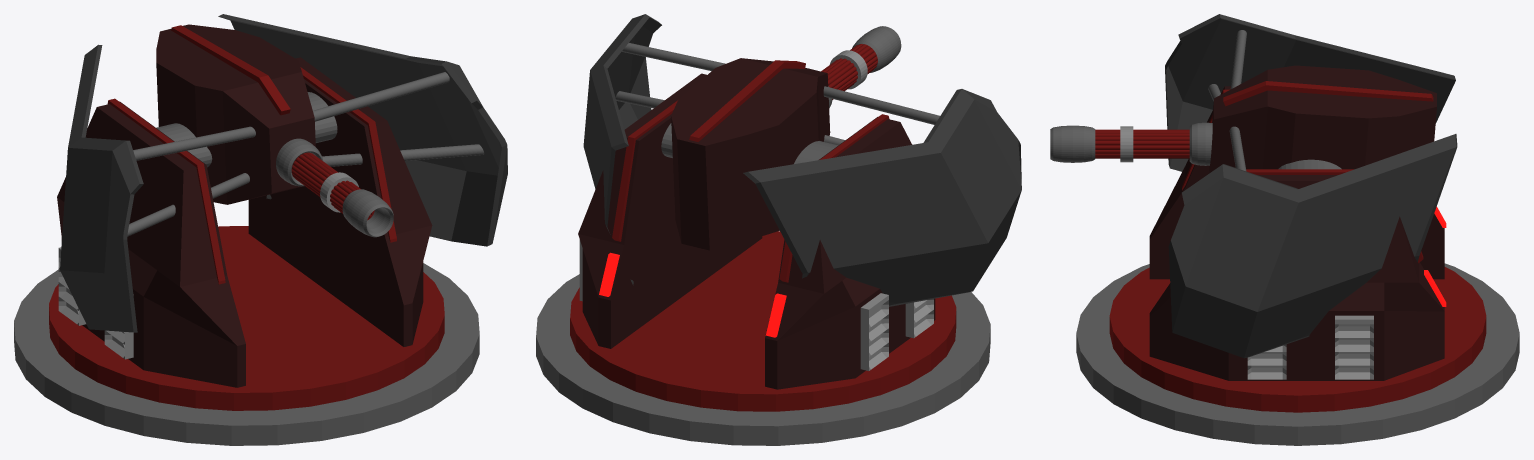
The model's file is Turm 3.fbx.
3 renders of one model, left to right at view 1: azimuth 30°, elevation 25°; view 2: azimuth 150°, elevation 25°; view 3: azimuth 270°, elevation 25°, orthographic. The views are drawn at different scales.
Parts seen in each view (by area): view 1: Cube, Cube.001; view 2: Cube, Cube.001; view 3: Cube, Cube.001.
Boxes of the visible parts, left/top/right/bottom form: Cube: left=49, top=14, right=507, bottom=410; Cube.001: left=14, top=263, right=479, bottom=445; Cube: left=570, top=14, right=1021, bottom=411; Cube.001: left=536, top=274, right=990, bottom=445; Cube: left=1050, top=14, right=1486, bottom=412; Cube.001: left=1076, top=263, right=1519, bottom=445.
Bounding box in the file's own units: 410 × 268 × 424.
